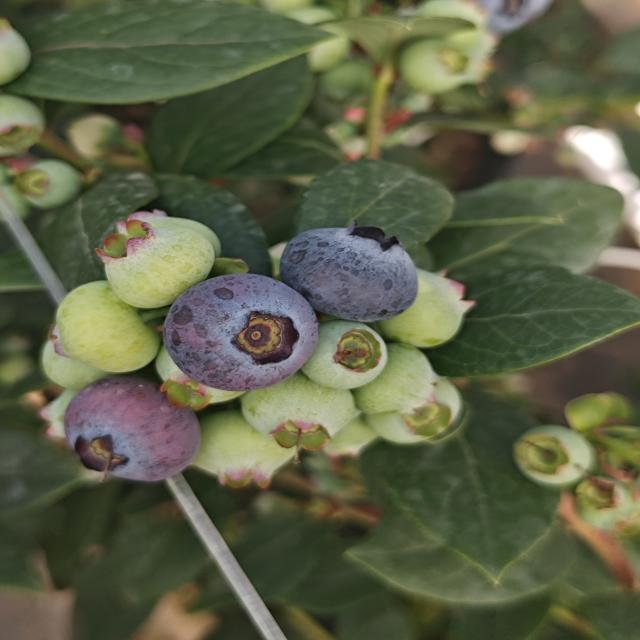ripe: (160, 272, 321, 394), (60, 375, 204, 485), (276, 222, 421, 324)
